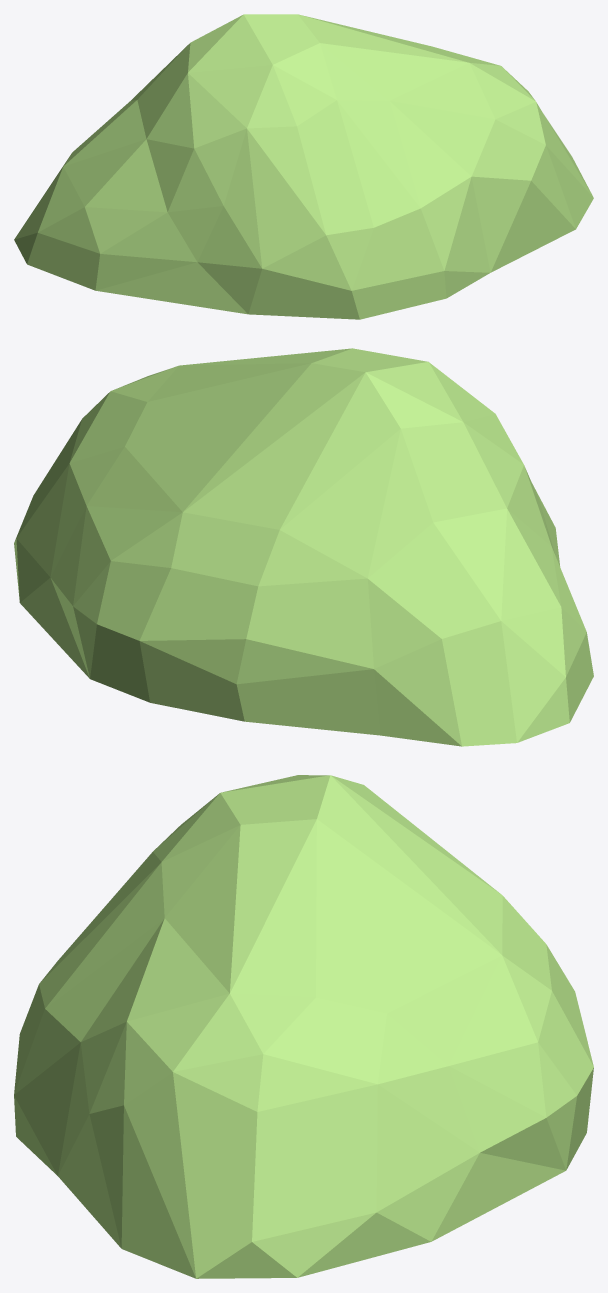
The model's file is Bush_b_l_02.fbx.
3 renders of one model, top to bottom at view 1: azimuth 30°, elevation 25°; view 2: azimuth 150°, elevation 25°; view 3: azimuth 270°, elevation 25°, orthographic. The views are drawn at different scales.
Visible parts, largest first — view 1: Bush_b_l_02; view 2: Bush_b_l_02; view 3: Bush_b_l_02.
Boxes of the visible parts, <box> form: Bush_b_l_02: <box>14,14,593,319</box>; Bush_b_l_02: <box>14,348,593,746</box>; Bush_b_l_02: <box>14,775,593,1278</box>.
Bounding box in the file's own units: 388 × 167 × 289.
